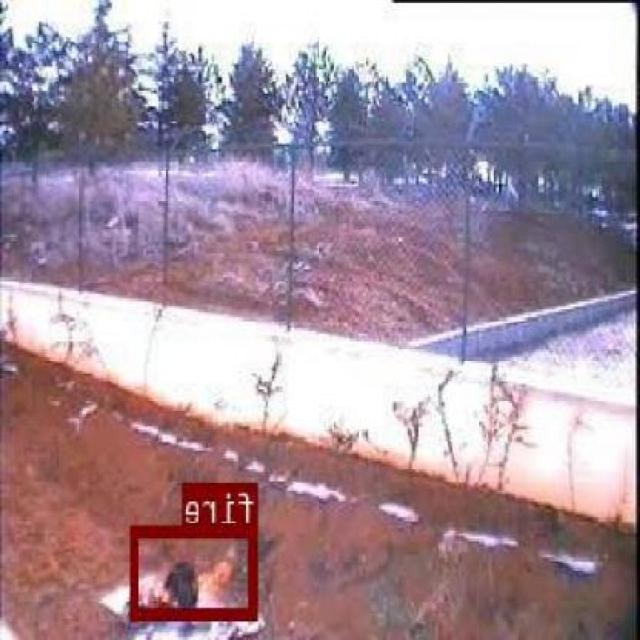fire: (134, 524, 258, 618)
